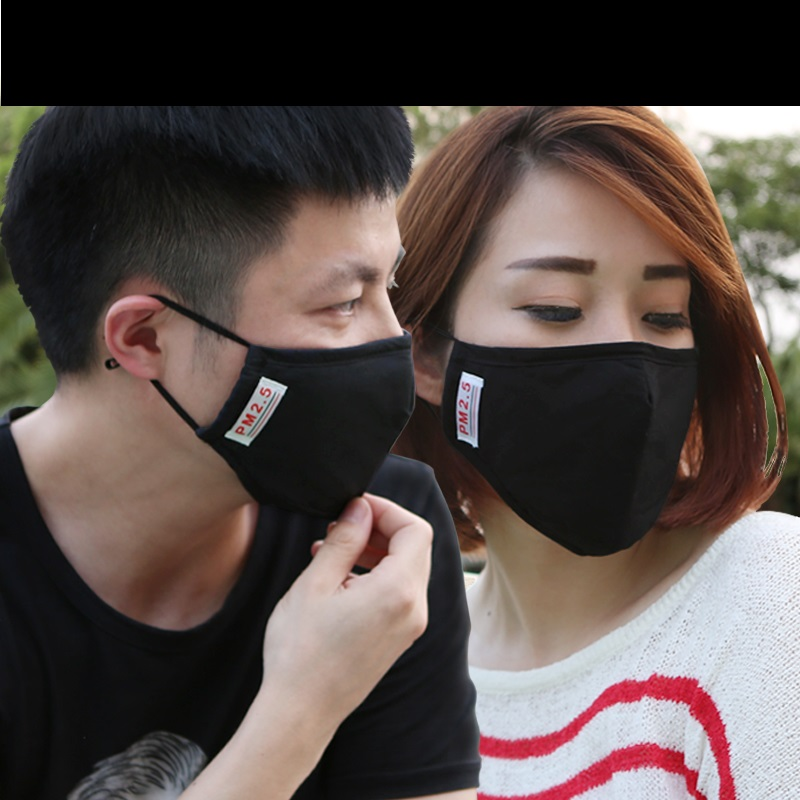face_mask: (441, 174, 701, 520), (193, 175, 422, 494)
